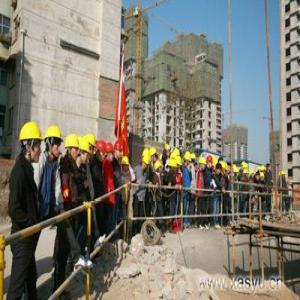none: (215, 163, 223, 176), (255, 172, 261, 182), (227, 163, 232, 174), (267, 164, 272, 173)
red: (97, 140, 107, 162), (106, 143, 115, 163), (115, 142, 124, 161), (207, 156, 213, 170)
yellow: (19, 121, 41, 163), (45, 124, 64, 161), (66, 133, 80, 160), (80, 138, 90, 165), (88, 134, 97, 158), (122, 156, 130, 172), (143, 156, 151, 171), (150, 148, 158, 163), (184, 152, 192, 166), (155, 161, 163, 174), (200, 158, 207, 172), (191, 153, 197, 165), (234, 168, 240, 179), (244, 170, 249, 180), (260, 173, 265, 183)
